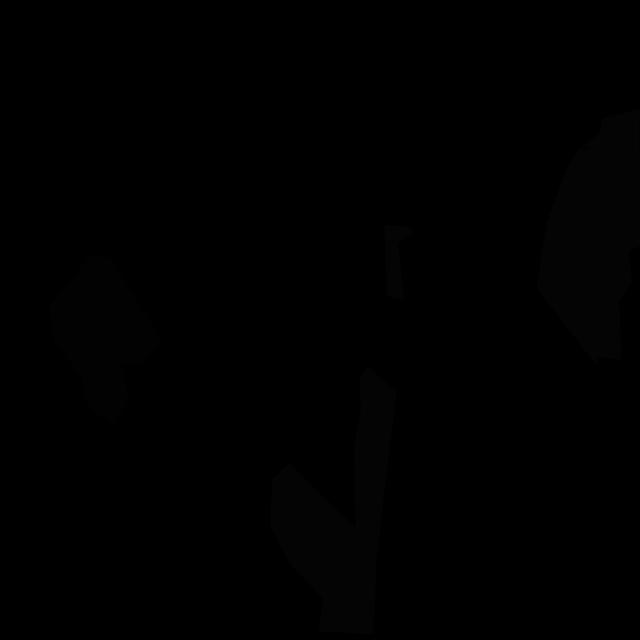cardboard: (49, 254, 160, 426)
soft_plastic: (270, 367, 396, 634), (536, 138, 640, 367), (580, 108, 640, 161), (384, 224, 412, 301)
